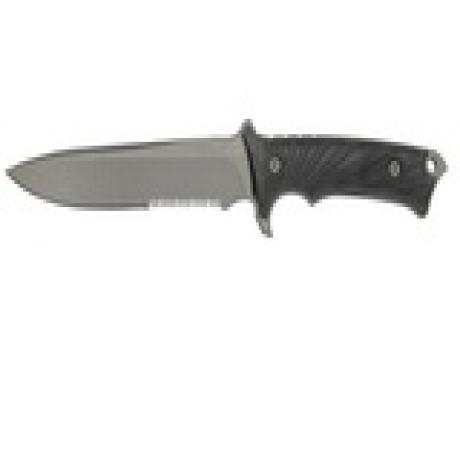weapon: (6, 116, 447, 241)
